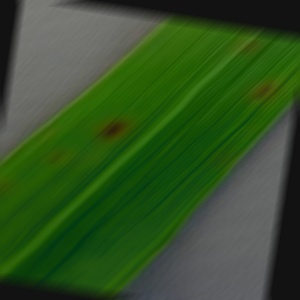Bacterial_Leaf_Blight: (95, 114, 131, 143), (249, 81, 276, 100), (241, 38, 259, 55), (128, 98, 143, 110), (50, 152, 65, 163), (189, 155, 202, 167), (216, 155, 227, 167), (0, 185, 5, 195)
